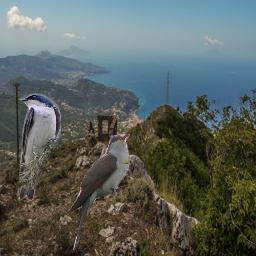Cuckoo: (68, 134, 130, 252)
Swallow: (15, 93, 61, 201)
